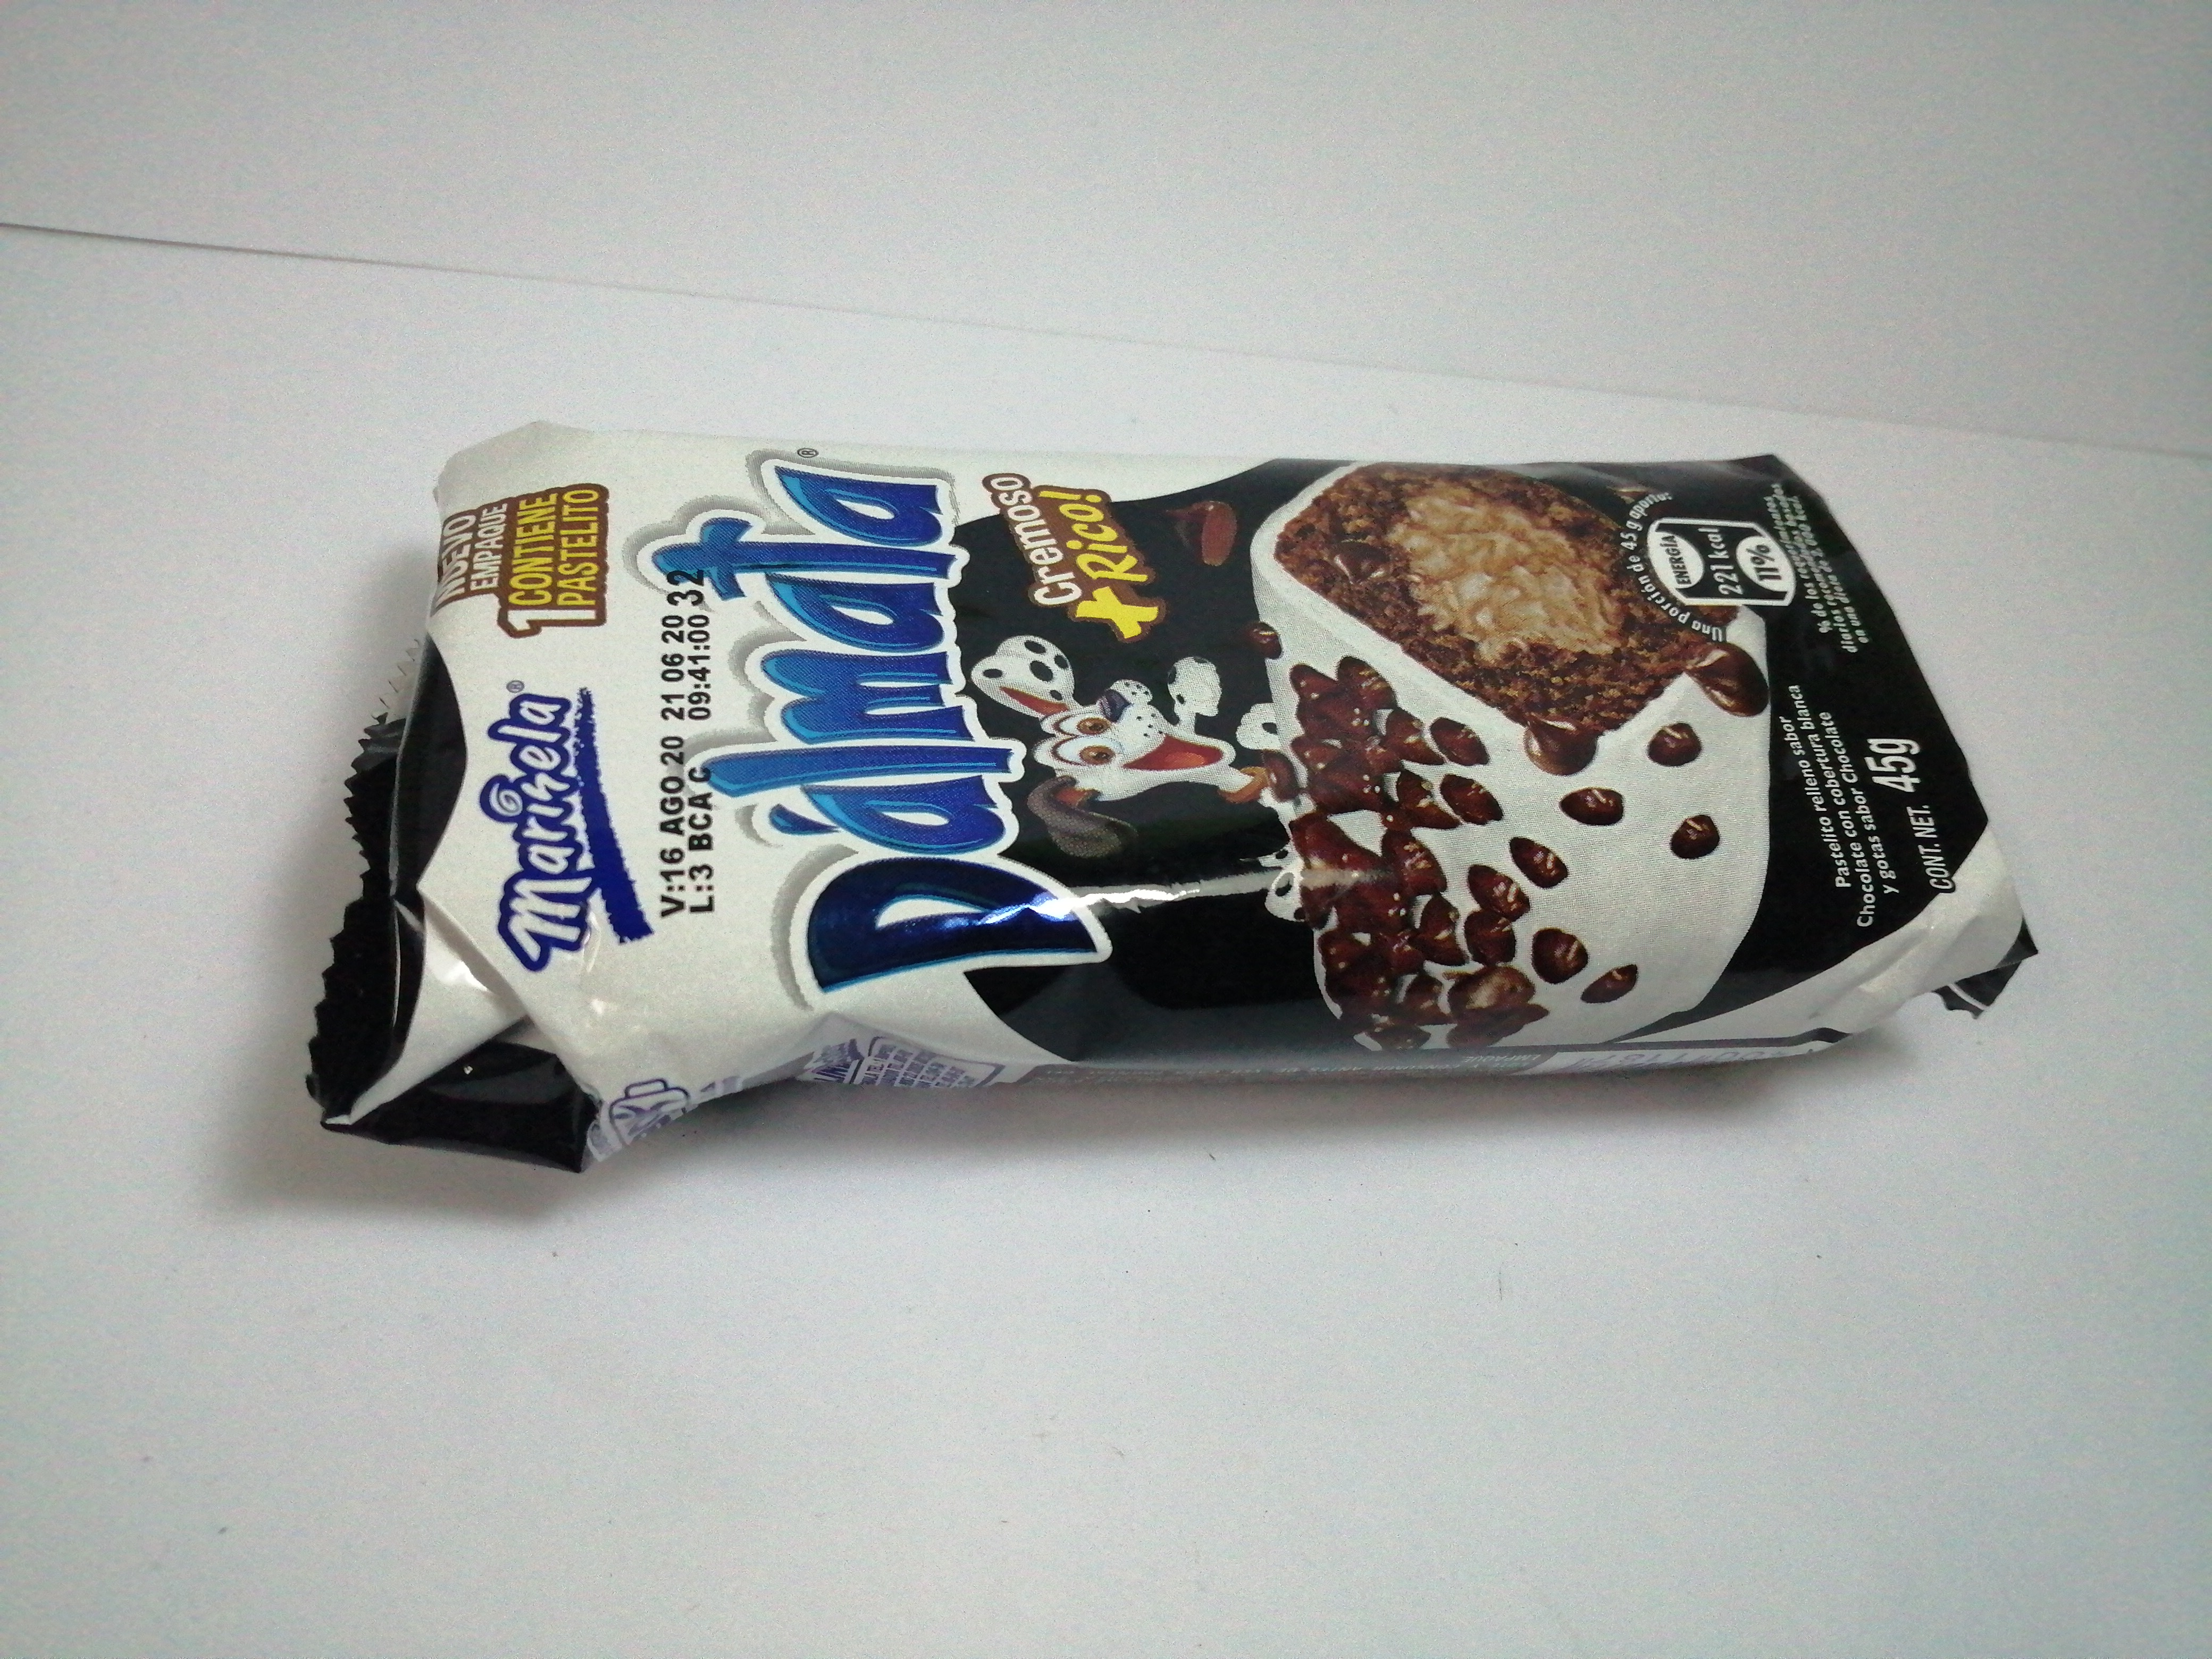dalmata: (294, 399, 2027, 1182)
